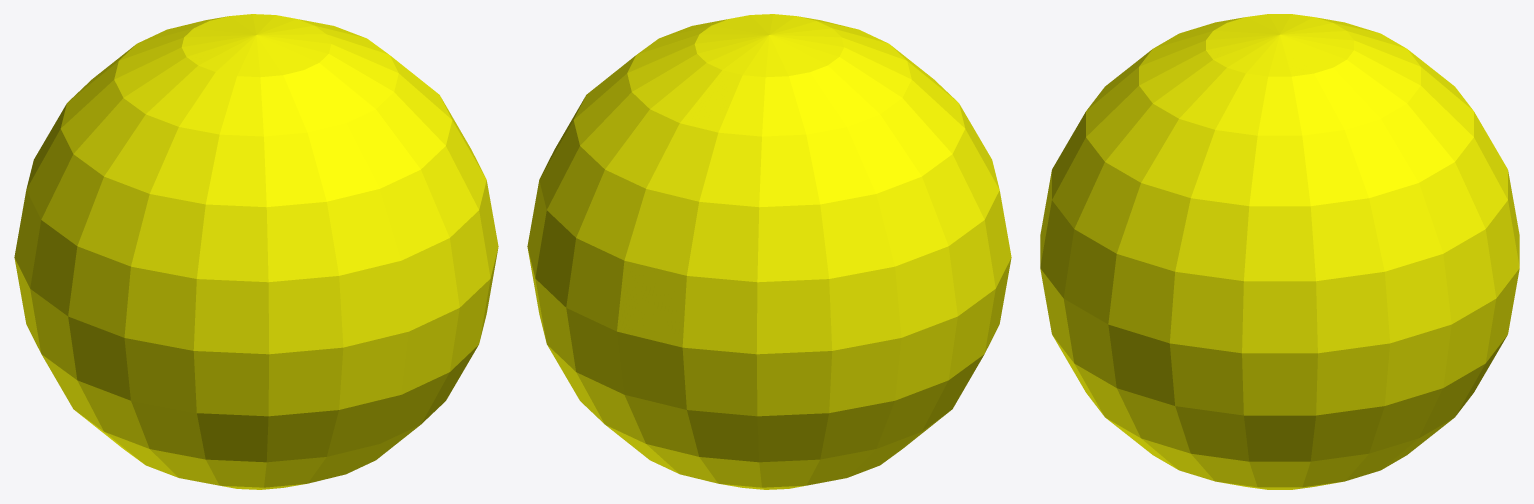
File: sol.obj
3 views of the same model, side by side, from view 1: azimuth 30°, elevation 25°; view 2: azimuth 150°, elevation 25°; view 3: azimuth 270°, elevation 25° (orthographic).
Visible parts, largest first — view 1: sphere; view 2: sphere; view 3: sphere.
Part boxes in pixels (box(x1,y1,x2,y2)): sphere: box(14, 14, 498, 489); sphere: box(527, 14, 1011, 489); sphere: box(1040, 14, 1519, 489).
Size of the model in its own units: 1 by 1 by 1.
Materials: 1 (1 with a texture image).
